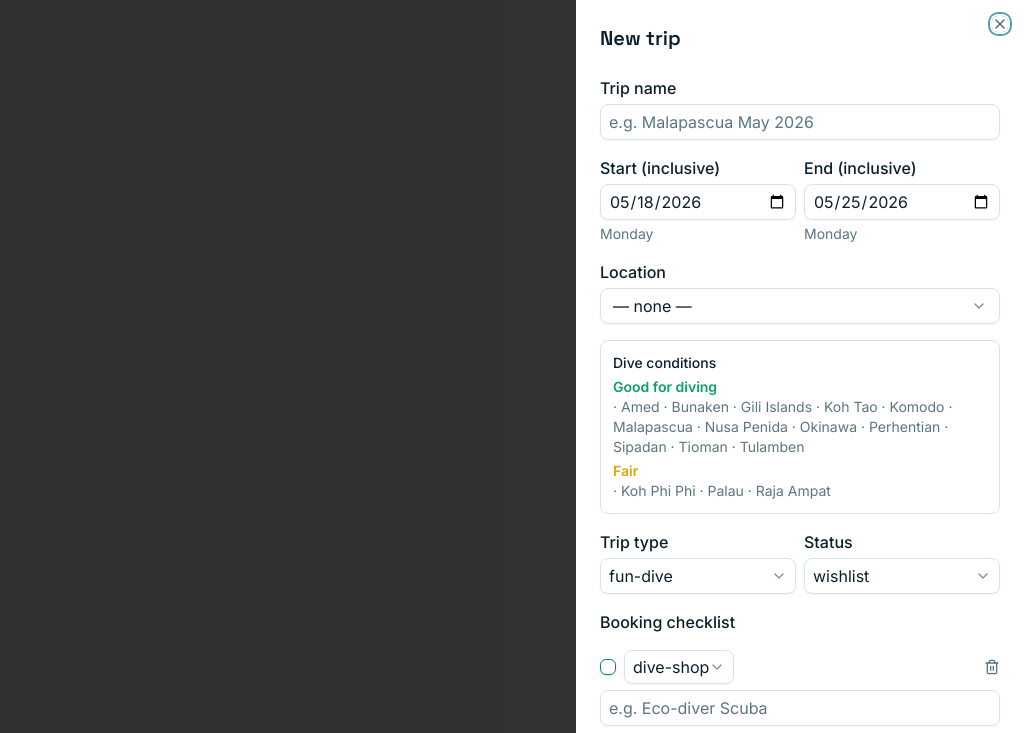
Test case: TripDrawer › blocks save when range overlaps another trip
Type "Overlap" into the field labelled "Trip name".
click(800, 122); type("Overlap")  # box [600,104,1000,140]
(page scrolled)
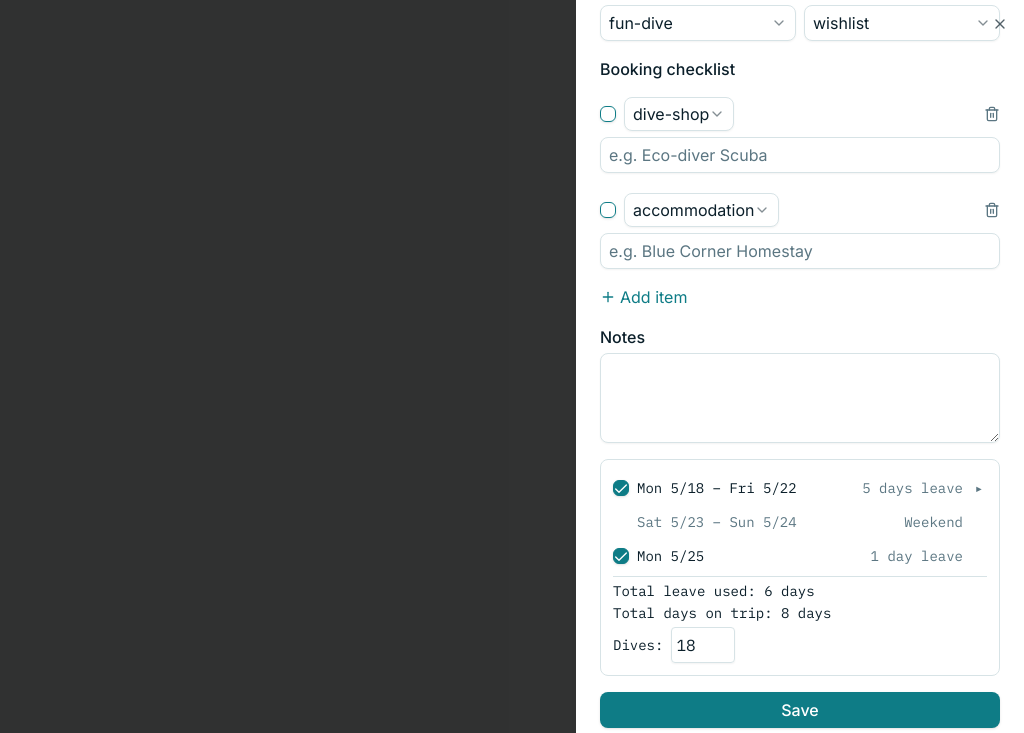
Click the button "Save".
click(800, 710)  # box [600,692,1000,728]
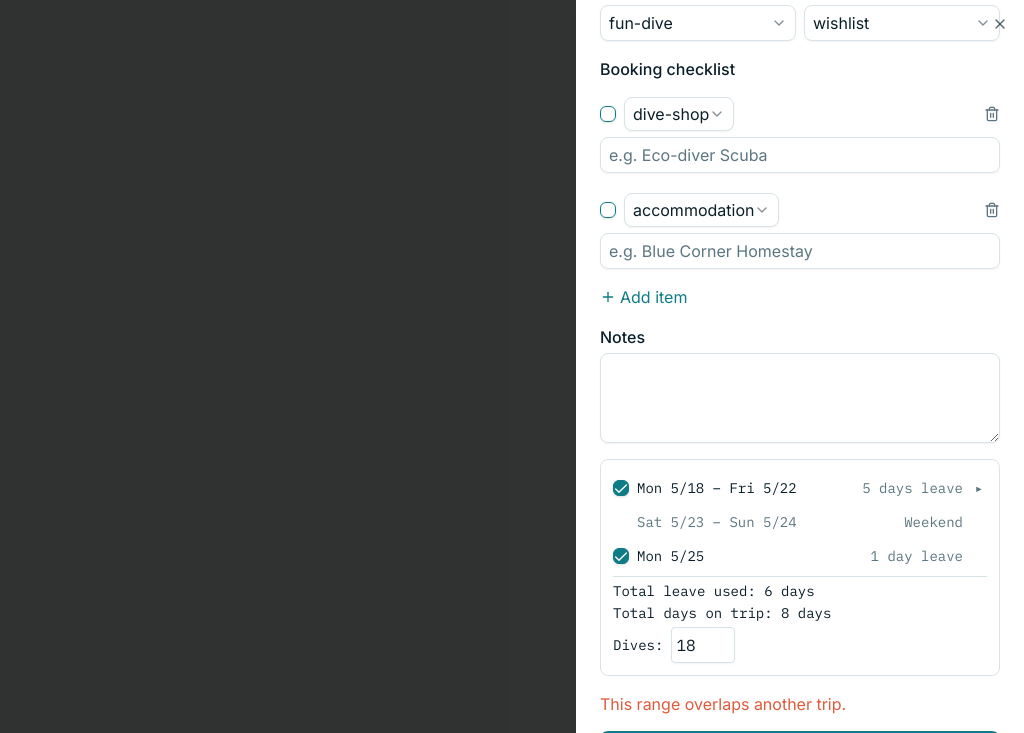
Result: the text "This range overlaps another trip." is shown at [600,694,846,714]
